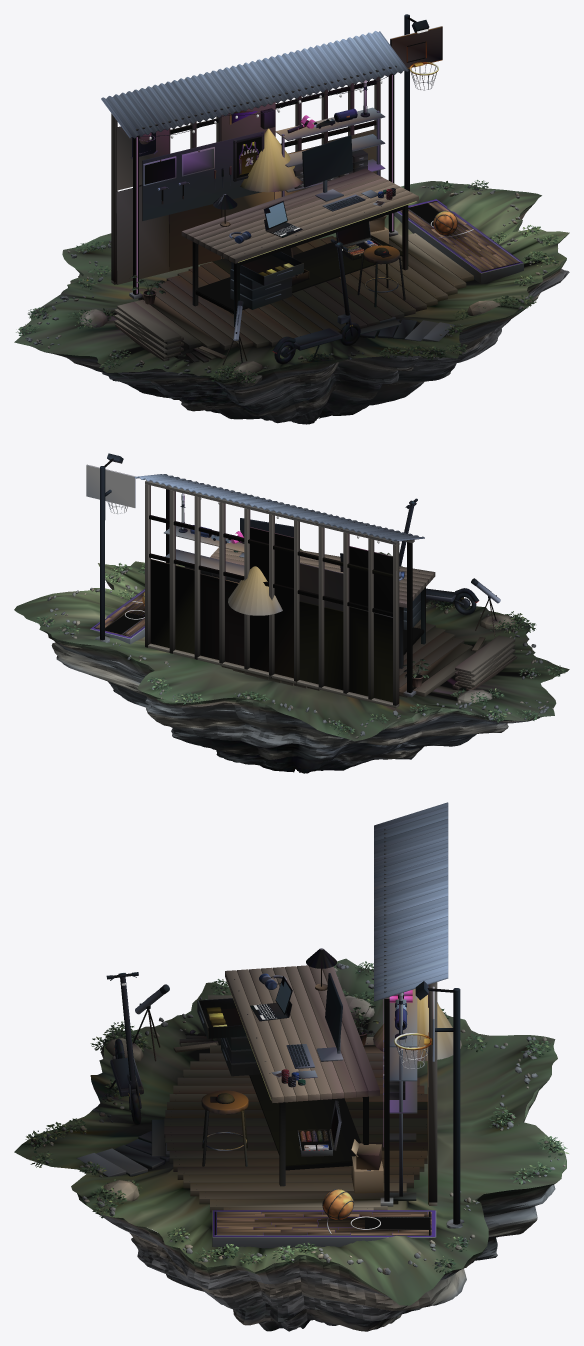
The model's file is flight-projects-a45e193e.glb.
3 renders of one model, top to bottom at view 1: azimuth 30°, elevation 25°; view 2: azimuth 150°, elevation 25°; view 3: azimuth 270°, elevation 25°, orthographic. The views are drawn at different scales.
Visible parts, largest first — view 1: Projects island · flight.001; view 2: Projects island · flight.001; view 3: Projects island · flight.001.
Boxes of the visible parts, x1,y1,x2,y2 form: Projects island · flight.001: [14, 14, 569, 424]; Projects island · flight.001: [14, 453, 569, 773]; Projects island · flight.001: [14, 802, 568, 1331].
Bounding box in the file's own units: 12.7 × 7.34 × 8.69.
